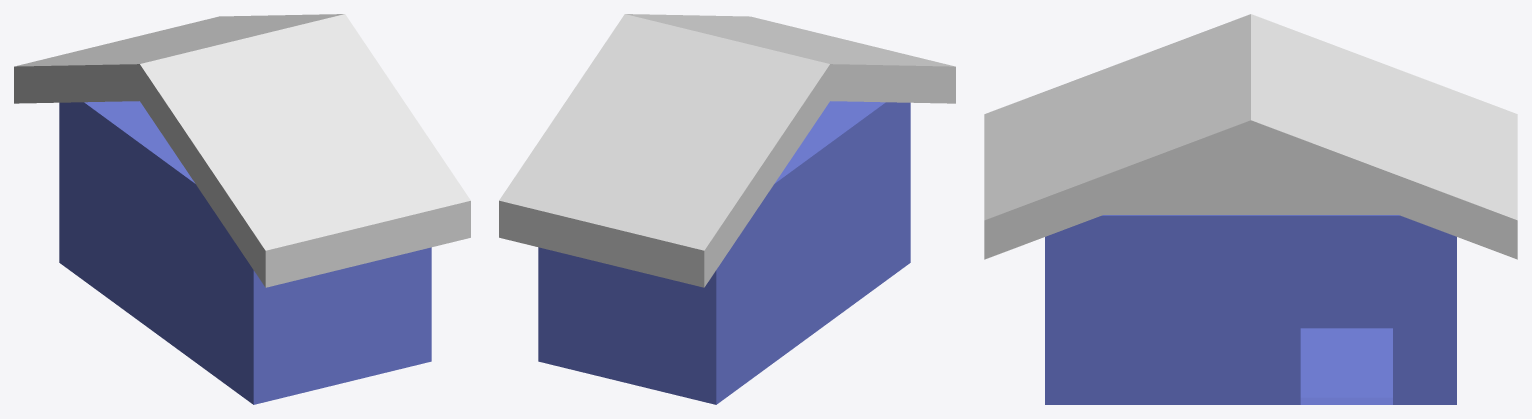
Rendered from house.gltf.
The picture shows the model from 3 angles, left to right: view 1: azimuth 30°, elevation 25°; view 2: azimuth 150°, elevation 25°; view 3: azimuth 270°, elevation 25°; orthographic projection. The views are drawn at different scales.
Parts seen in each view (by area): view 1: Cube.001, Cube; view 2: Cube.001, Cube; view 3: Cube.001, Cube, Plane.
Part boxes in pixels (bbox=[...]): Cube.001: bbox=[14, 14, 470, 287]; Cube: bbox=[59, 101, 431, 404]; Cube.001: bbox=[499, 14, 955, 287]; Cube: bbox=[538, 101, 910, 404]; Cube.001: bbox=[984, 14, 1517, 259]; Cube: bbox=[1045, 215, 1456, 404]; Plane: bbox=[1104, 159, 1397, 214].
Size of the model in its own units: 20.56 by 26.2 by 43.64.
